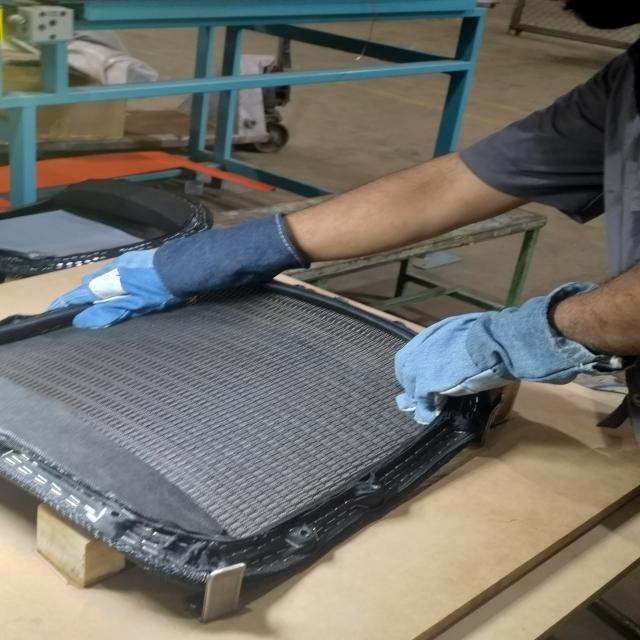Gloves-Detection: (406, 280, 582, 409), (75, 217, 304, 316)
